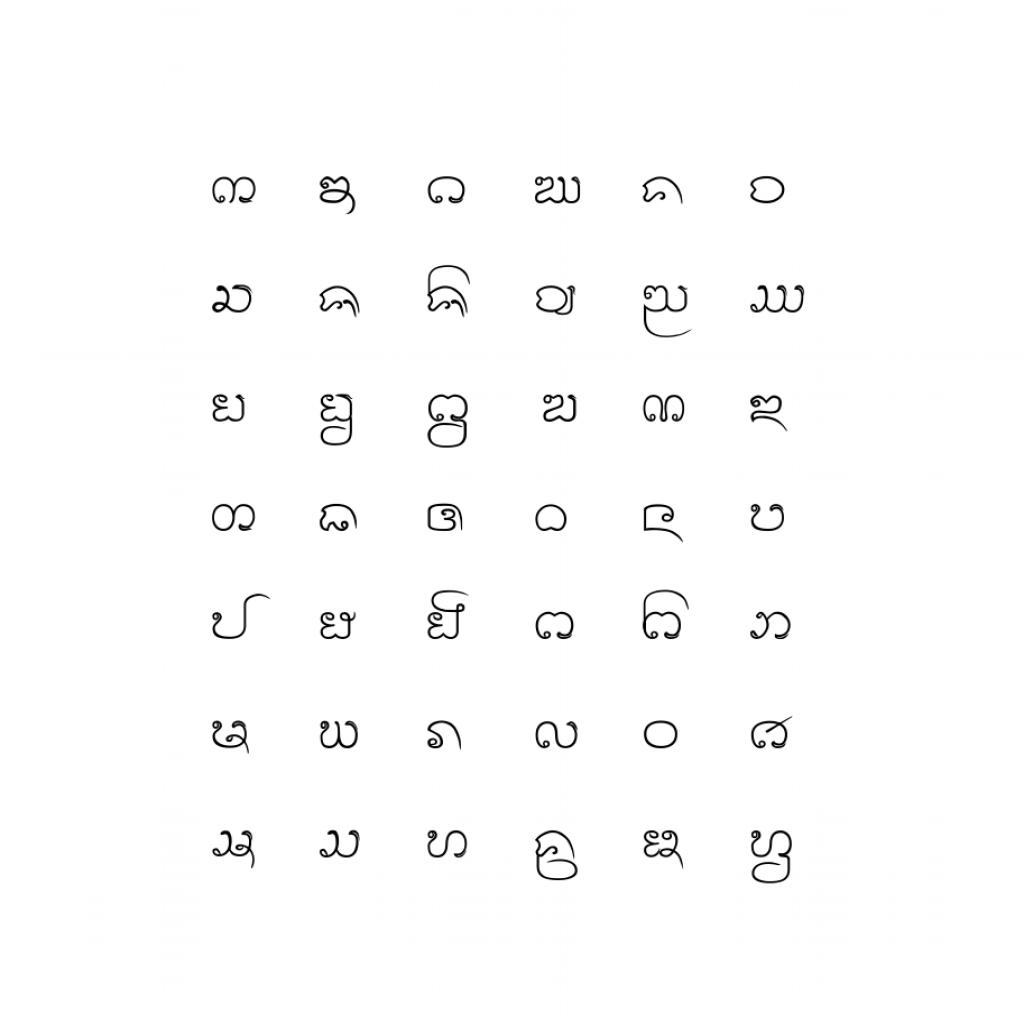LN001: (210, 175, 260, 208)
LN002: (317, 174, 360, 219)
LN003: (426, 174, 470, 207)
LN004: (533, 175, 584, 208)
LN005: (641, 174, 688, 209)
LN006: (748, 174, 789, 207)
LN007: (210, 282, 257, 317)
LN010: (533, 284, 580, 320)
LN011: (641, 283, 696, 341)
LN012: (748, 283, 809, 317)
LN013: (210, 392, 250, 426)
LN014: (318, 392, 358, 450)
LN015: (426, 393, 472, 452)
LN016: (540, 392, 581, 426)
LN017: (641, 392, 689, 426)
LN018: (748, 393, 791, 436)
LN019: (210, 502, 259, 535)
LN020: (318, 502, 361, 535)
LN021: (424, 501, 467, 535)
LN022: (533, 502, 571, 535)
LN023: (641, 502, 687, 547)
LN024: (749, 502, 789, 536)
LN025: (210, 592, 274, 643)
LN026: (318, 610, 360, 644)
LN027: (425, 588, 473, 643)
LN028: (533, 610, 578, 643)
LN029: (640, 588, 693, 643)
LN030: (748, 609, 796, 643)
LN031: (209, 717, 253, 758)
LN032: (318, 718, 363, 753)
LN033: (425, 718, 465, 754)
LN034: (533, 719, 582, 753)
LN035: (641, 718, 682, 752)
LN036: (749, 714, 797, 753)
LN037: (210, 828, 259, 873)
LN038: (318, 828, 363, 862)
LN039: (424, 827, 471, 862)
LN040: (533, 828, 583, 885)
LN041: (641, 828, 688, 874)
LN042: (748, 828, 796, 888)
